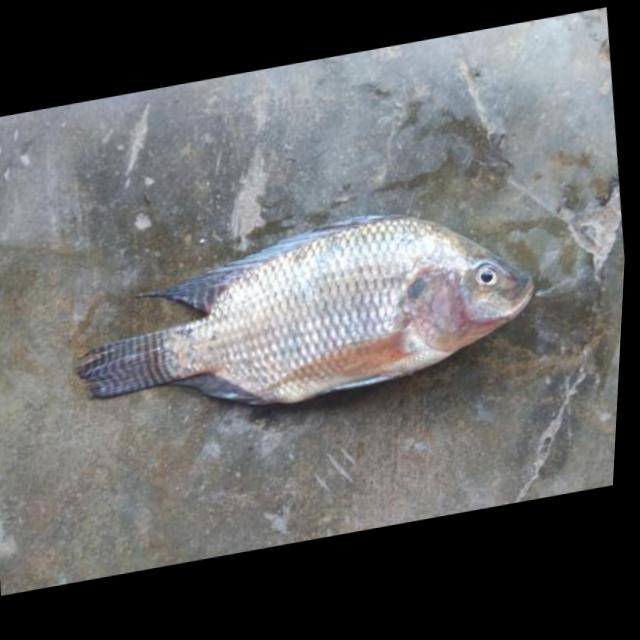Tilapia: (58, 181, 551, 447)
